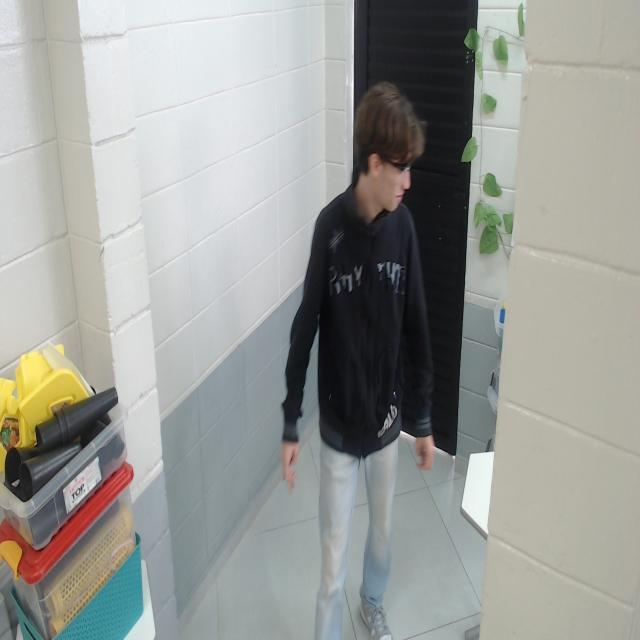oculos-epi: (381, 158, 411, 181)
